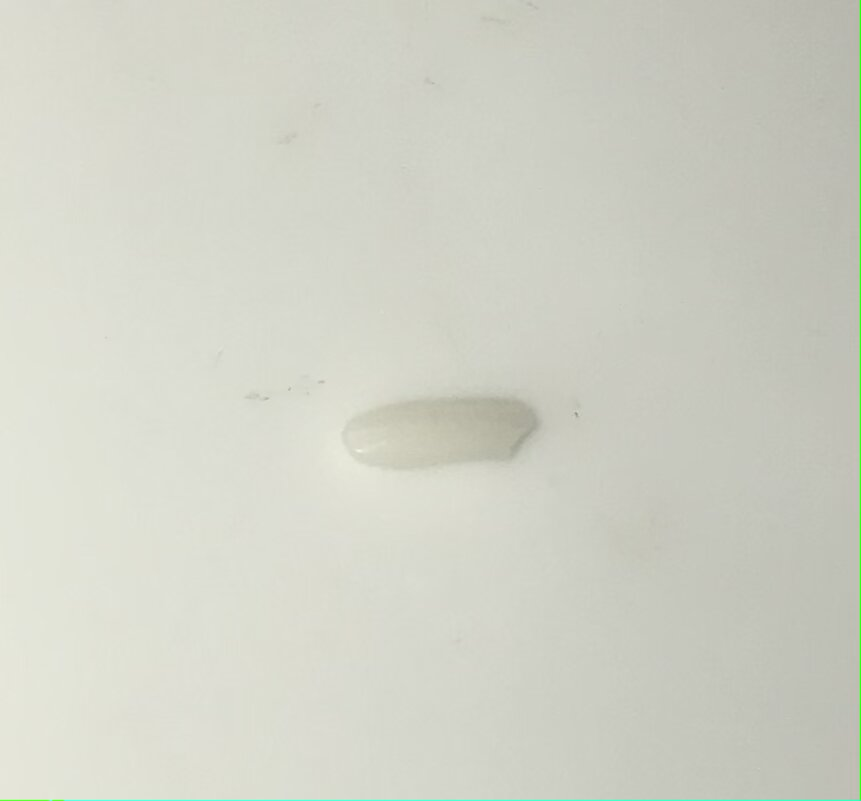Gao Lai Sua: (341, 398, 539, 469)
